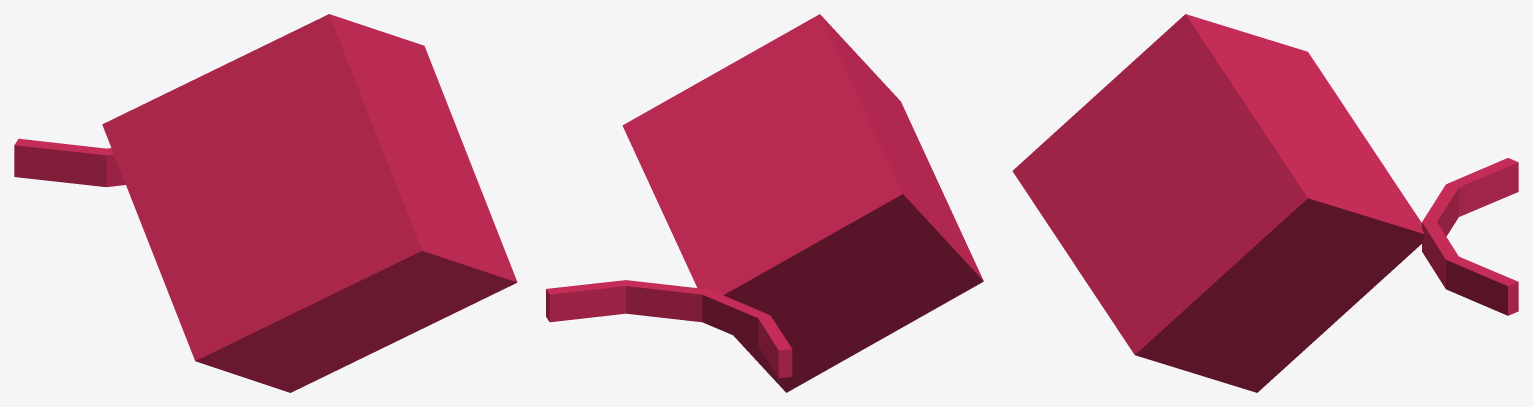
The model's file is hat-boxel.glb.
3 renders of one model, left to right at view 1: azimuth 30°, elevation 25°; view 2: azimuth 150°, elevation 25°; view 3: azimuth 270°, elevation 25°, orthographic. The views are drawn at different scales.
Visible parts, largest first — view 1: hat-boxel; view 2: hat-boxel; view 3: hat-boxel.
Boxes of the visible parts, x1=… form: hat-boxel: x1=14, y1=14, x2=517, y2=392; hat-boxel: x1=546, y1=14, x2=983, y2=392; hat-boxel: x1=1012, y1=14, x2=1518, y2=392.
Bounding box in the file's own units: 1.06 × 1.28 × 1.55.
Materials: 1 (1 with a texture image).
